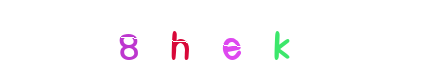8: (138, 0, 218, 80)
E: (180, 0, 260, 80)
H: (139, 0, 219, 80)
K: (240, 0, 320, 80)
